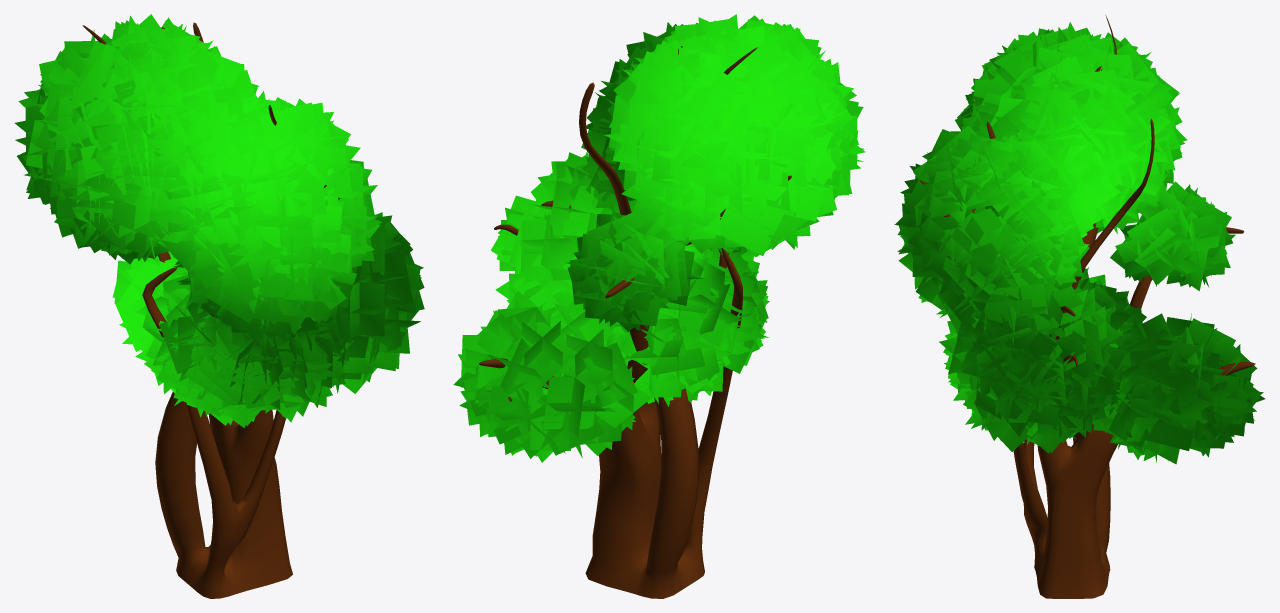
The model's file is ThickTree2.fbx.
3 views of the same model, side by side, from view 1: azimuth 30°, elevation 25°; view 2: azimuth 150°, elevation 25°; view 3: azimuth 270°, elevation 25° (orthographic). The views are drawn at different scales.
Visible parts, largest first — view 1: ThickTree2_LOD0; view 2: ThickTree2_LOD0; view 3: ThickTree2_LOD0.
Part boxes in pixels (box(x1,y1,x2,y2)): ThickTree2_LOD0: box(15, 14, 424, 598); ThickTree2_LOD0: box(453, 14, 865, 598); ThickTree2_LOD0: box(894, 15, 1265, 598).
Size of what is drawn, in the model's own units: 2241 by 3358 by 2231.
